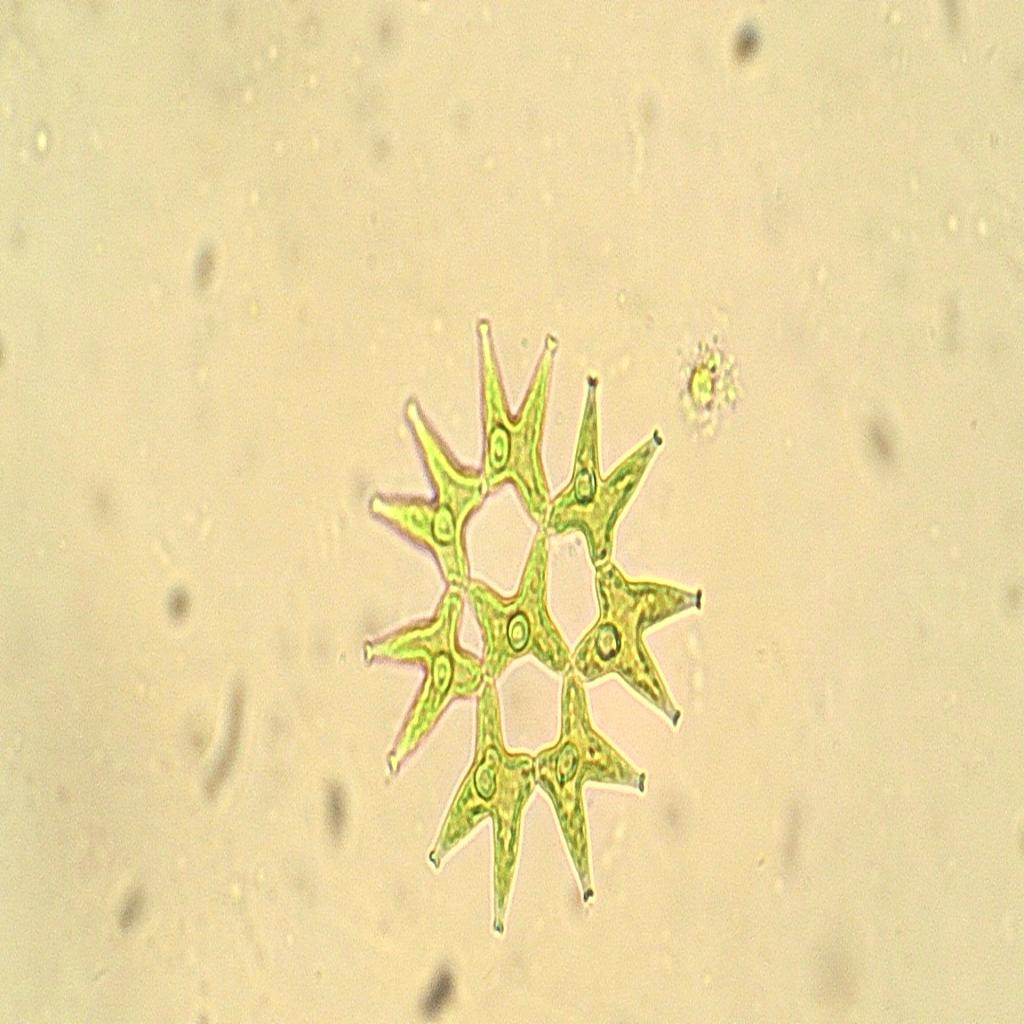Pediastrum_CTH: (347, 295, 704, 929)
